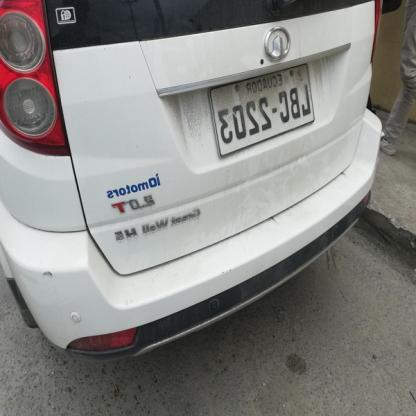Placa: (206, 61, 317, 154)
